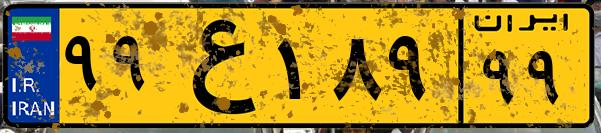1: (270, 28, 330, 110)
8: (330, 28, 385, 110)
9: (385, 28, 445, 110), (57, 26, 110, 100), (475, 38, 525, 113), (525, 38, 570, 115), (110, 28, 158, 98)
ع: (158, 12, 270, 120)
